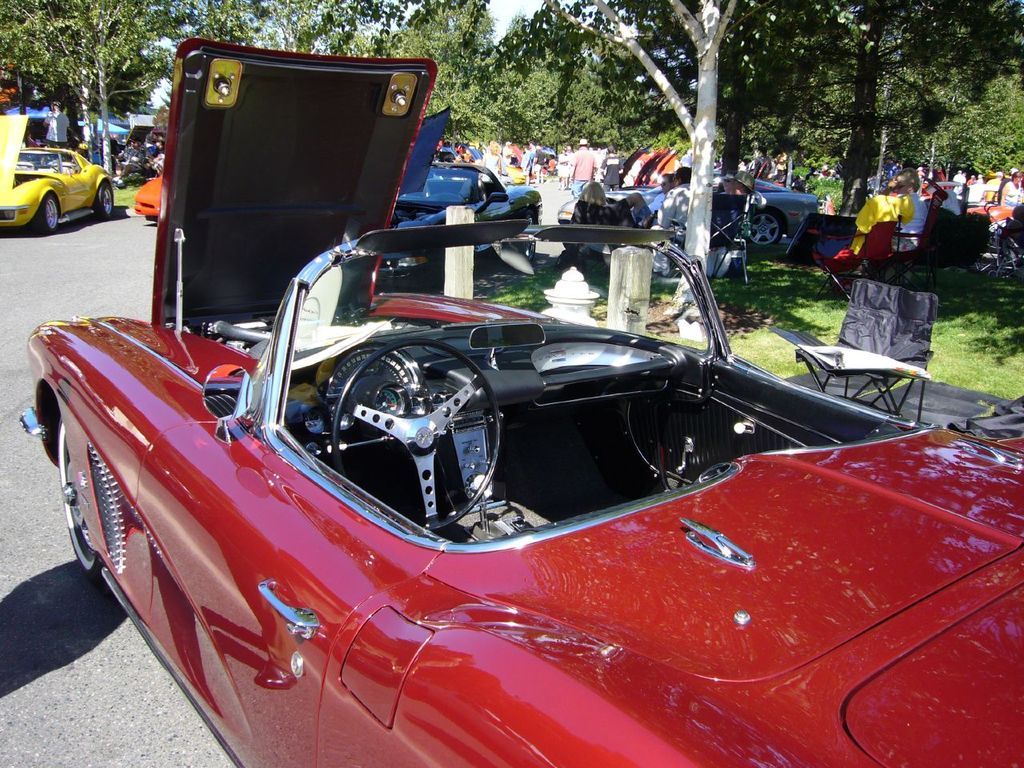Car: (0, 35, 1023, 767)
